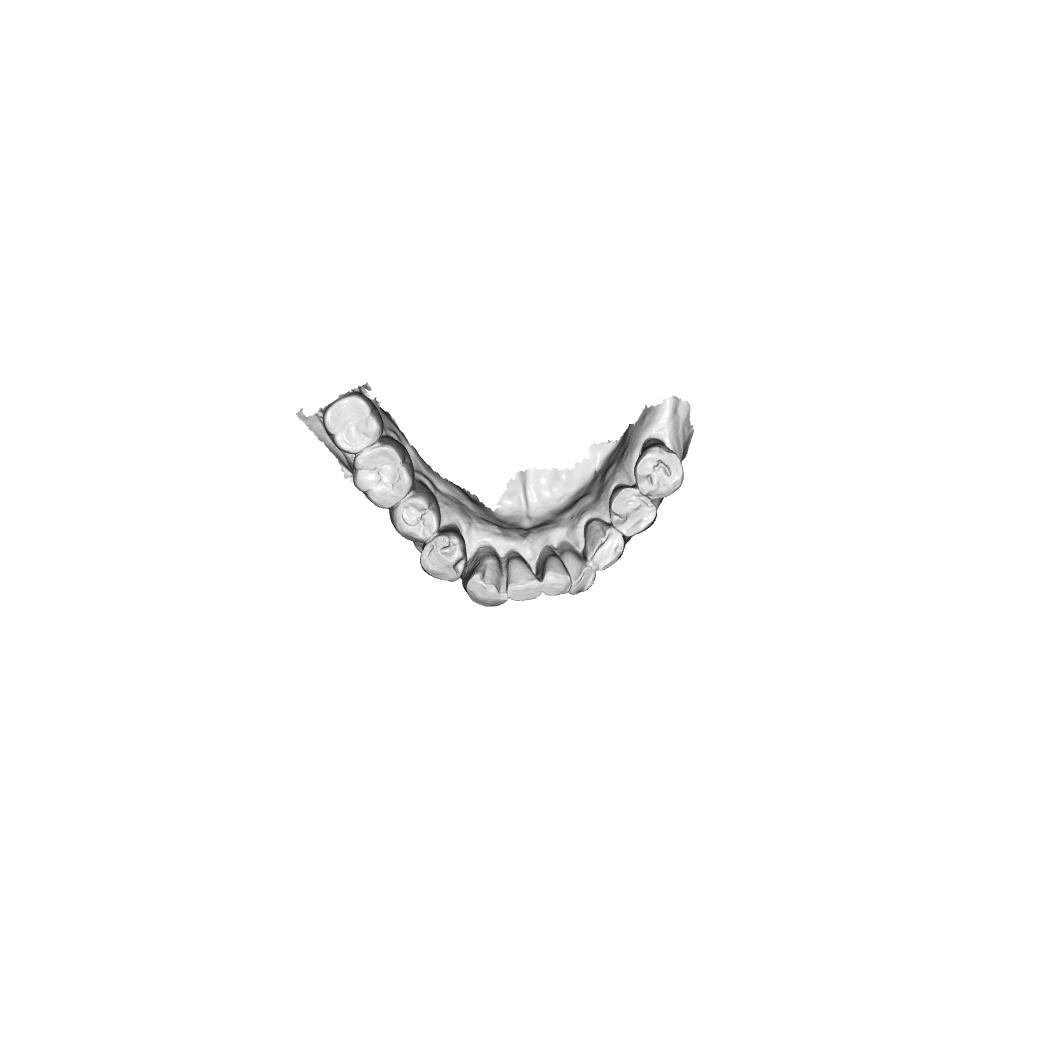canine: (464, 552, 511, 609), (583, 517, 625, 571)
incisor: (506, 552, 542, 602), (562, 548, 597, 596), (540, 553, 573, 598)
molar: (352, 435, 416, 510), (322, 391, 384, 455)
premolar: (388, 478, 441, 543), (633, 440, 685, 500), (608, 483, 658, 539), (419, 528, 467, 583)
